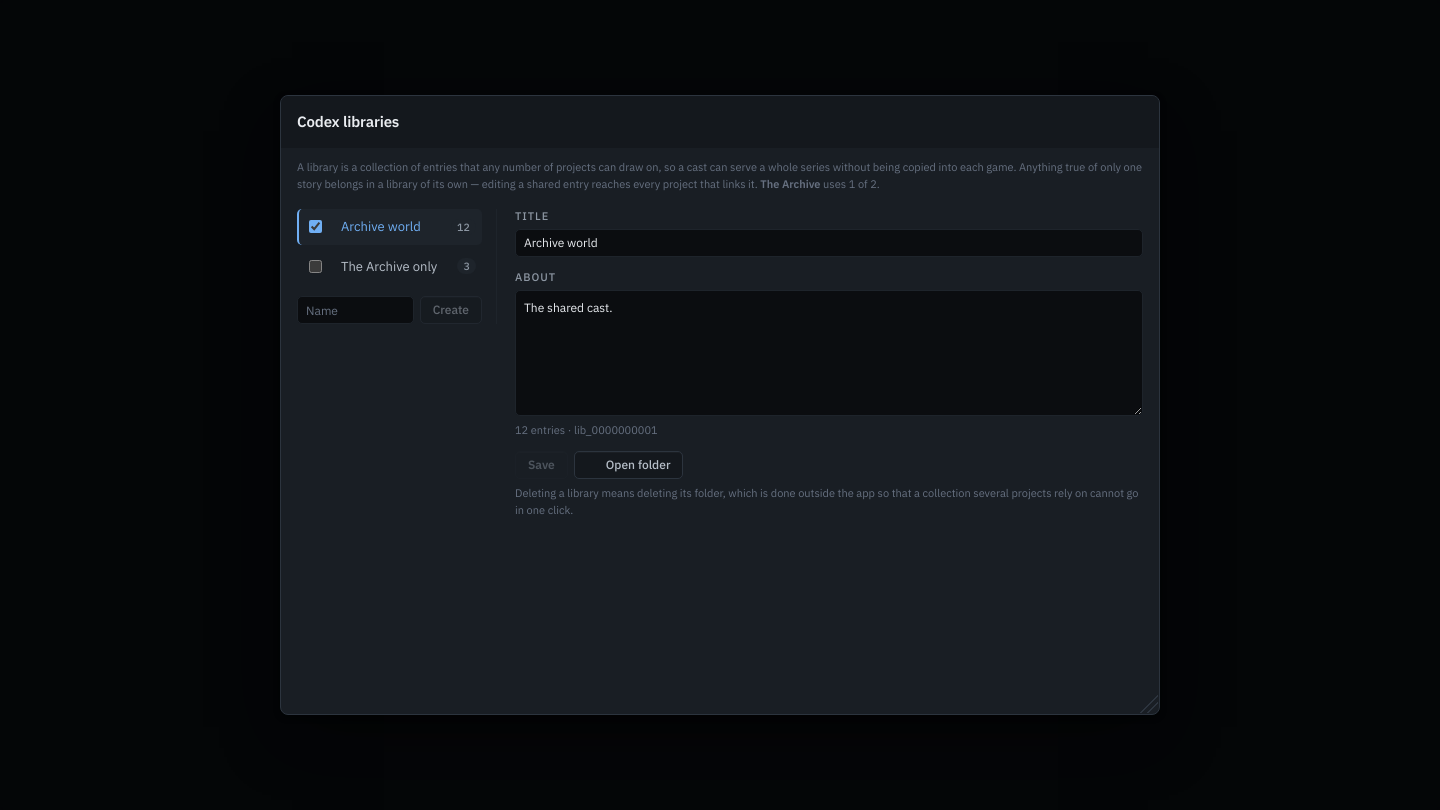
Test case: LibraryDialog › describes the library that is selected
The width and height of the screenshot is (1440, 810).
Expected: the text box showing "The shared cast." is shown, x1=515 y1=290 x2=1143 y2=416
Click the button "The Archive only": [391, 266] box x1=333 y1=252 x2=450 y2=281
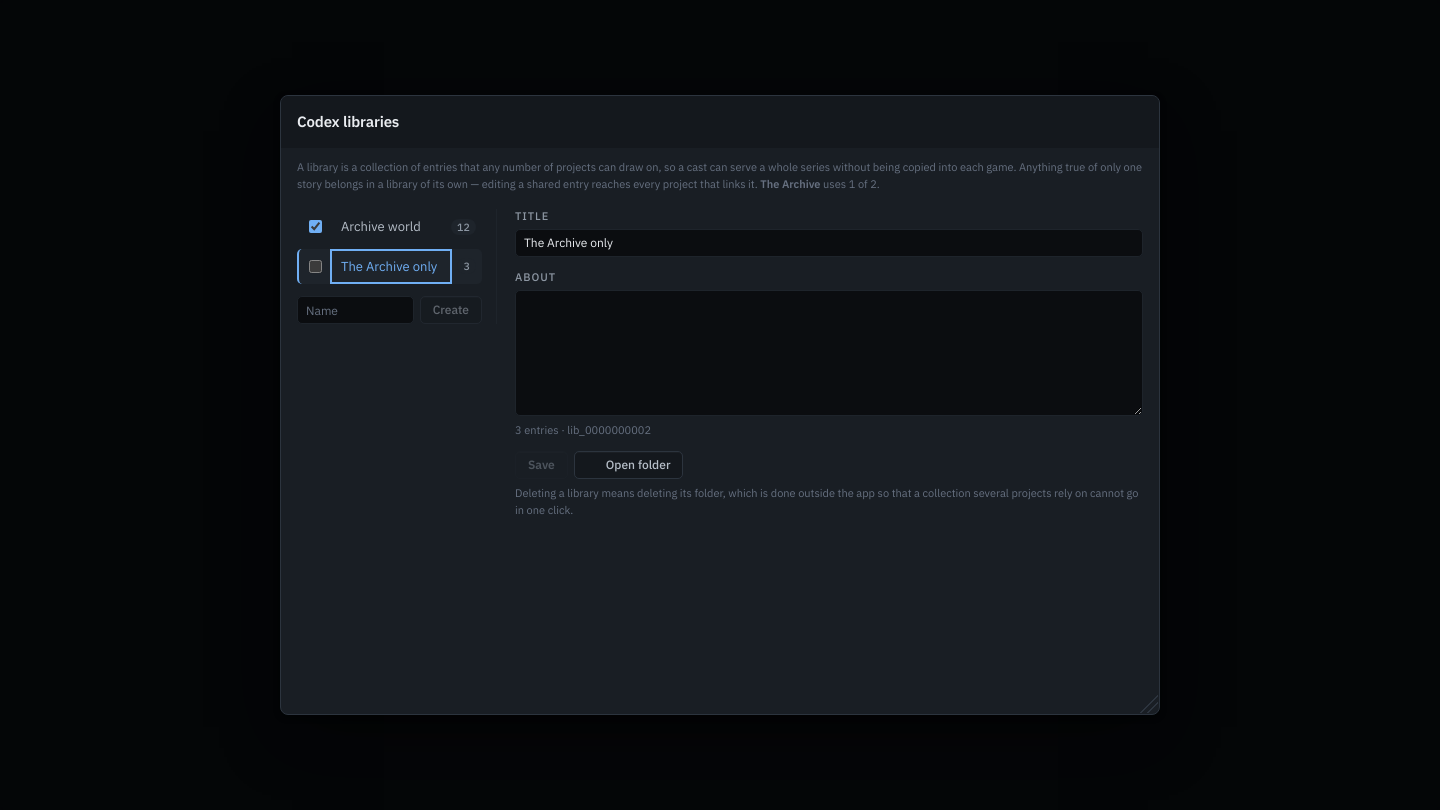
Expected: the field showing "The shared cast." is not shown
Result: the field showing "The Archive only" is shown at x1=515 y1=229 x2=1143 y2=257
